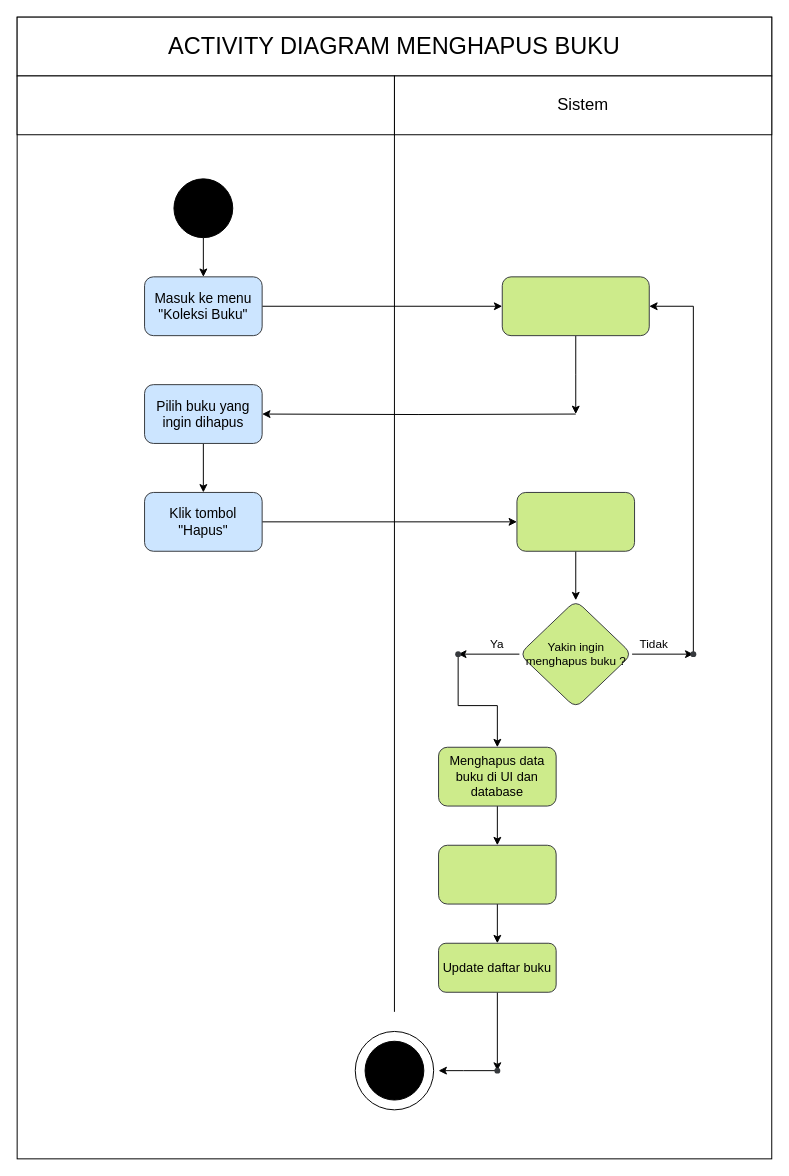
The diagram is 789 pixels wide and 1176 high, and some of its shapes have lost their labels. Each missing label, with the centre of its shape:
Menampilkan Daftar Buku: (575,306)
Menampilkan konfirmasi penghapusan: (575,521)
Tampilkan pesan "Buku berhasil dihapus": (497,874)
User: (205,105)
